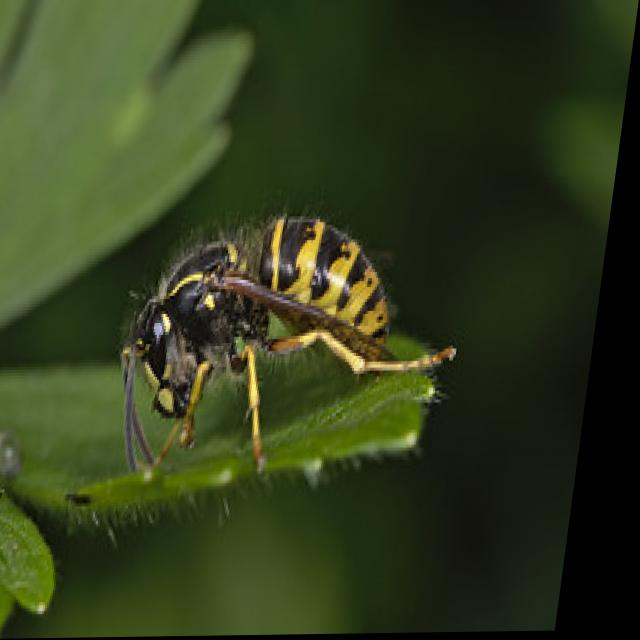Guepe: (107, 179, 503, 484)
